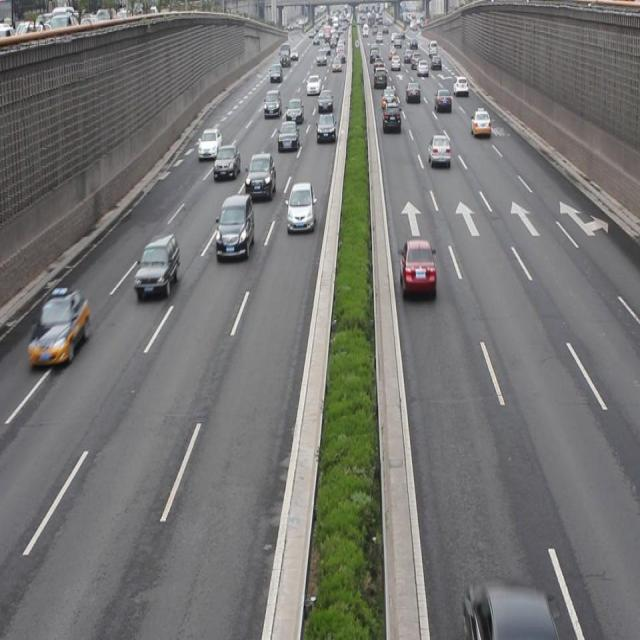car: (28, 288, 90, 366), (134, 232, 178, 295), (215, 194, 255, 258), (398, 236, 436, 297), (245, 151, 275, 201), (286, 180, 314, 232), (213, 144, 240, 180), (428, 133, 450, 168), (277, 119, 299, 154), (198, 127, 222, 159), (382, 100, 401, 133), (316, 110, 335, 142), (470, 108, 491, 136)
